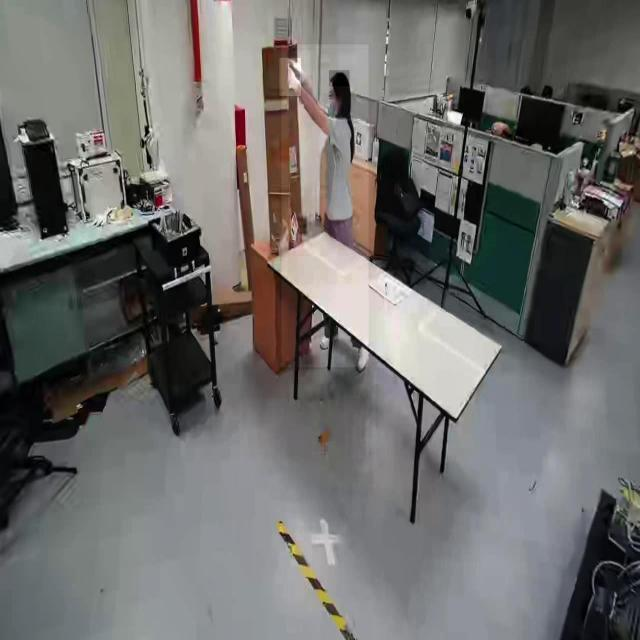gloves: (280, 58, 302, 97), (291, 51, 311, 84)
